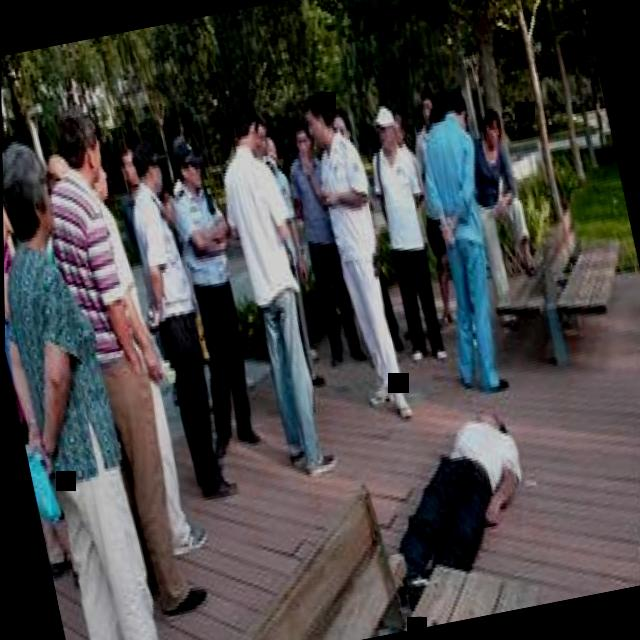Fall-Detected: (349, 380, 549, 598)
